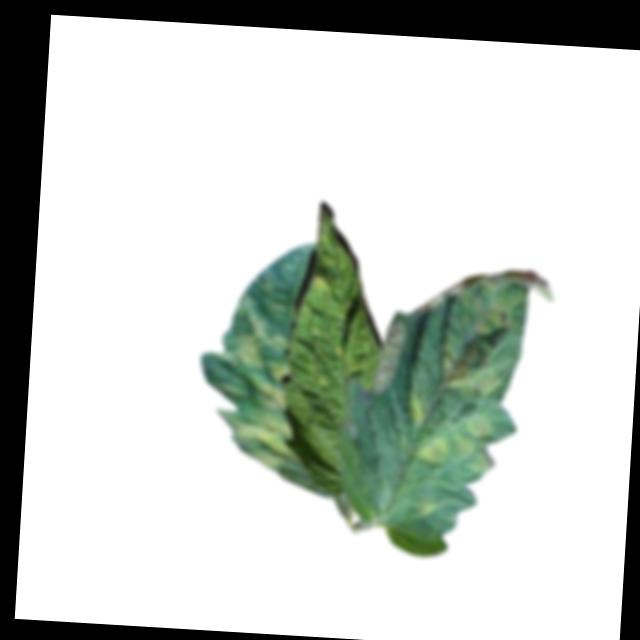Leaf_Mold: (403, 282, 528, 475), (215, 294, 302, 472), (310, 264, 341, 293)
